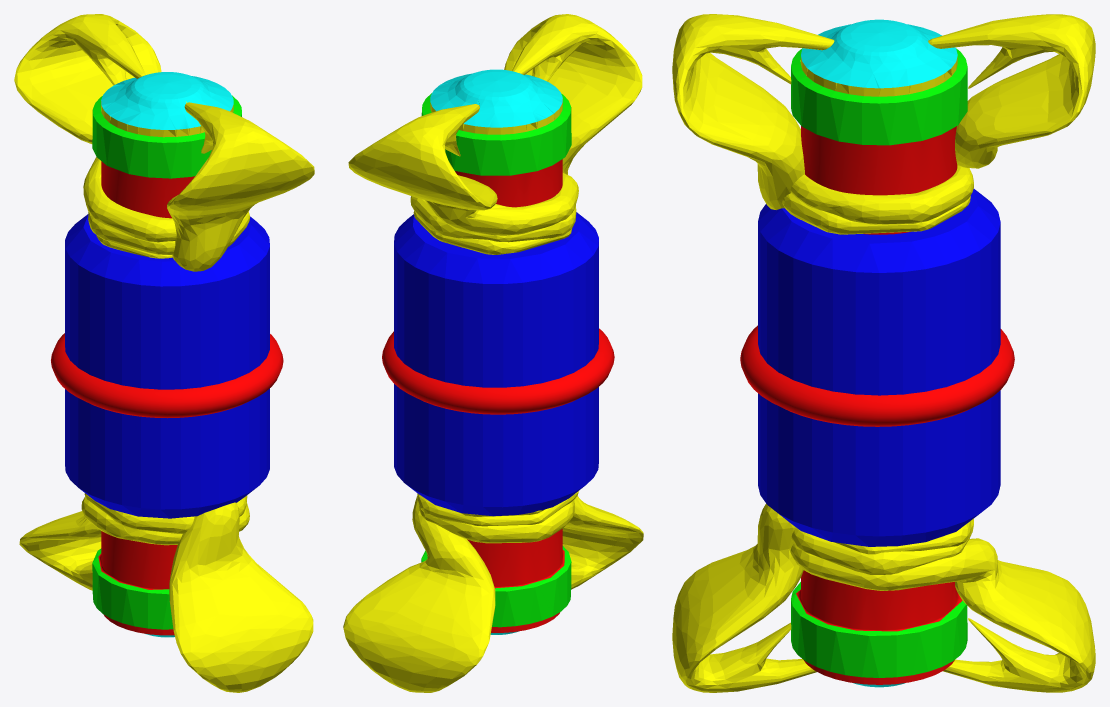
The model's file is battery.fbx.
The picture shows the model from 3 angles, left to right: view 1: azimuth 30°, elevation 25°; view 2: azimuth 150°, elevation 25°; view 3: azimuth 270°, elevation 25°; orthographic projection. The views are drawn at different scales.
Parts seen in each view (by area): view 1: Torus_002 (×5); view 2: Torus_002 (×5); view 3: Torus_002 (×5).
Boxes of the visible parts, bbox=[...] form: Torus_002 (×5): bbox=[14, 14, 314, 692]; Torus_002 (×5): bbox=[343, 14, 643, 692]; Torus_002 (×5): bbox=[672, 14, 1095, 692].
Bounding box in the file's own units: 350 × 936 × 540.
